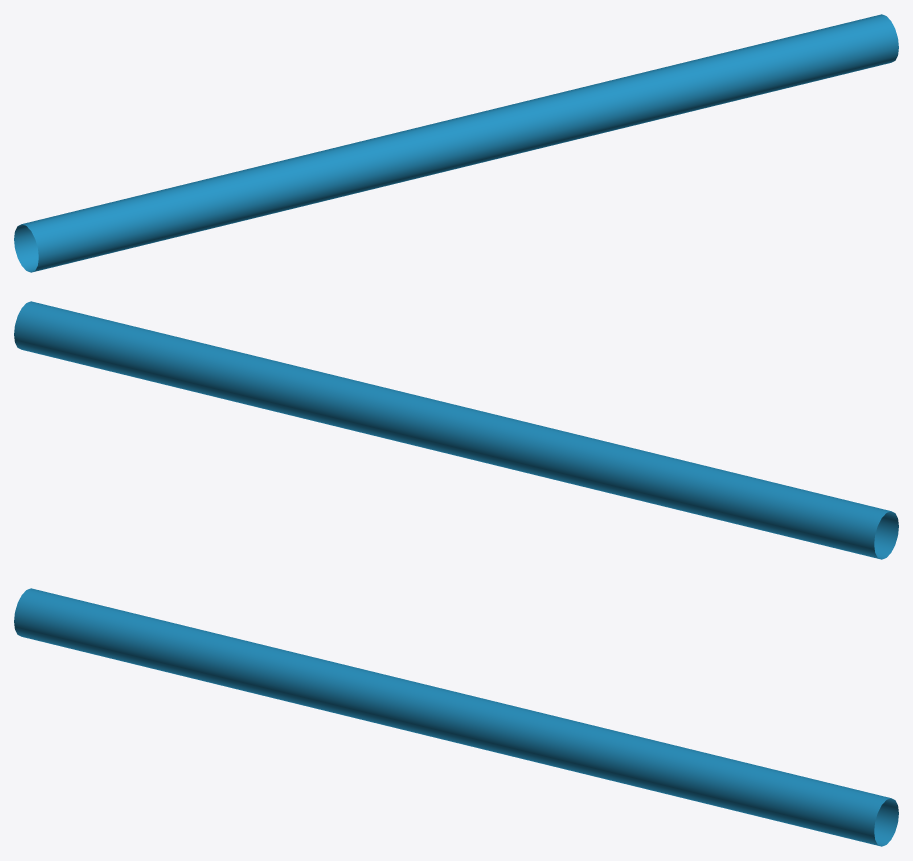
Rendered from SM_Connection_Riser.glb.
The picture shows the model from 3 angles, top to bottom: view 1: azimuth 30°, elevation 25°; view 2: azimuth 150°, elevation 25°; view 3: azimuth 330°, elevation 25°; orthographic projection.
Visible parts, largest first — view 1: SM_Connection_Riser; view 2: SM_Connection_Riser; view 3: SM_Connection_Riser.
Part boxes in pixels (left/top/right/bottom): SM_Connection_Riser: left=14, top=14, right=898, bottom=272; SM_Connection_Riser: left=14, top=301, right=898, bottom=559; SM_Connection_Riser: left=14, top=588, right=898, bottom=846.
Size of the model in its own units: 1 by 0.05 by 0.05.
